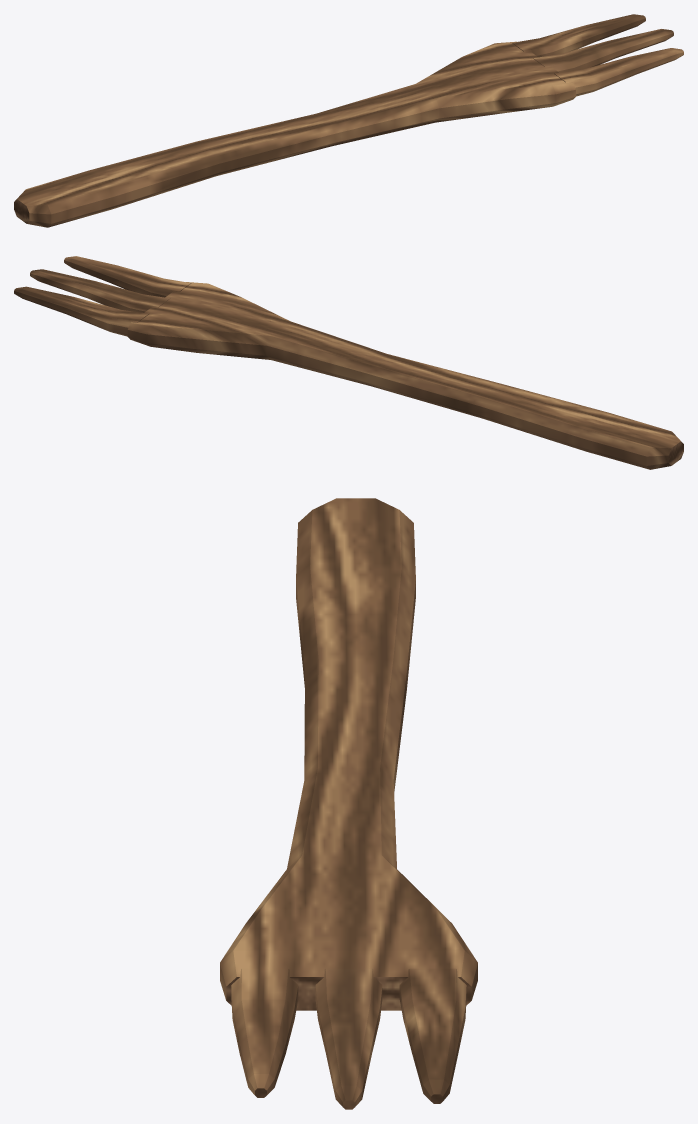
File: Garfo-de-Madeira.glb
The picture shows the model from 3 angles, top to bottom: view 1: azimuth 30°, elevation 25°; view 2: azimuth 150°, elevation 25°; view 3: azimuth 270°, elevation 25°; orthographic projection. The views are drawn at different scales.
Visible parts, largest first — view 1: Cabo e base do garfo, Dentes; view 2: Cabo e base do garfo, Dentes; view 3: Cabo e base do garfo, Dentes.
Part boxes in pixels (x1,y1,x2,y2): Cabo e base do garfo: (14,41,575,227); Dentes: (512,14,683,96); Cabo e base do garfo: (127,282,683,469); Dentes: (14,256,191,336); Cabo e base do garfo: (220,498,477,1010); Dentes: (231,968,466,1109).
Bounding box in the file's own units: 0.214 × 0.0124 × 0.037.
2 materials, 2 textured.
